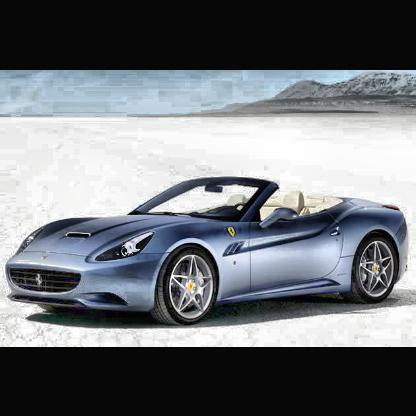Ferrari California Convertible 2012: (6, 177, 411, 326)
